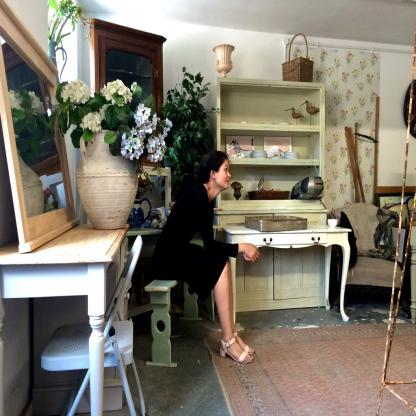vase: (74, 126, 138, 227)
